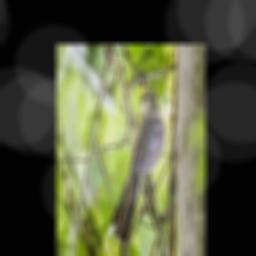Cuckoo: (106, 87, 165, 246)
